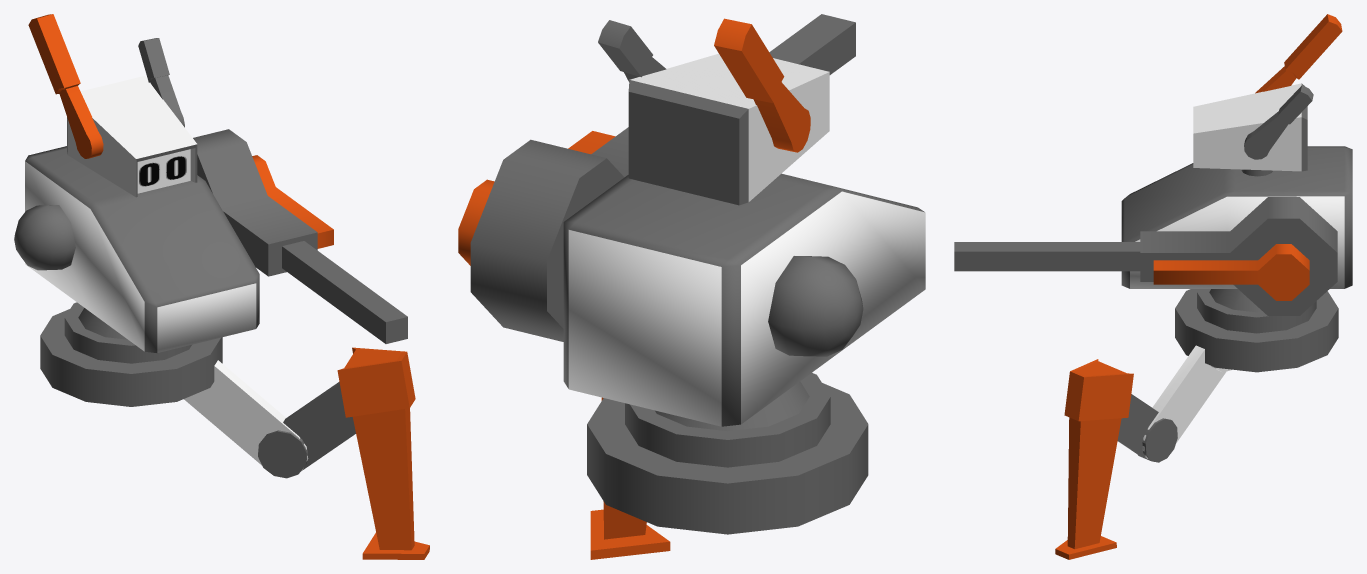
The model's file is PlayerMech.fbx.
3 renders of one model, left to right at view 1: azimuth 30°, elevation 25°; view 2: azimuth 150°, elevation 25°; view 3: azimuth 270°, elevation 25°, orthographic. The views are drawn at different scales.
Visible parts, largest first — view 1: Mech Torso, Foot, Gun, Mech Base, Barrel, Leg_Mid, Leg; view 2: Mech Torso, Mech Base, Gun, Barrel, Foot; view 3: Mech Torso, Gun, Foot, Mech Base, Barrel, Leg, Leg_Mid.
Part boxes in pixels (box(x1,y1,x2,y2)): Mech Torso: box(14, 14, 259, 363); Foot: box(337, 347, 429, 559); Gun: box(193, 129, 333, 276); Mech Base: box(40, 309, 222, 406); Barrel: box(282, 241, 407, 343); Leg_Mid: box(258, 382, 355, 478); Leg: box(184, 360, 308, 470); Mech Torso: box(563, 18, 925, 467); Mech Base: box(587, 383, 868, 534); Gun: box(458, 127, 628, 341); Barrel: box(769, 14, 855, 74); Foot: box(590, 397, 670, 559); Mech Torso: box(1121, 14, 1352, 333); Gun: box(1140, 197, 1337, 315); Foot: box(1055, 359, 1133, 559); Mech Base: box(1175, 289, 1338, 372); Barrel: box(954, 242, 1140, 271); Leg: box(1142, 345, 1231, 461); Leg_Mid: box(1117, 394, 1177, 462).
Bounding box in the file's own units: 4.28 × 5.64 × 6.83.
